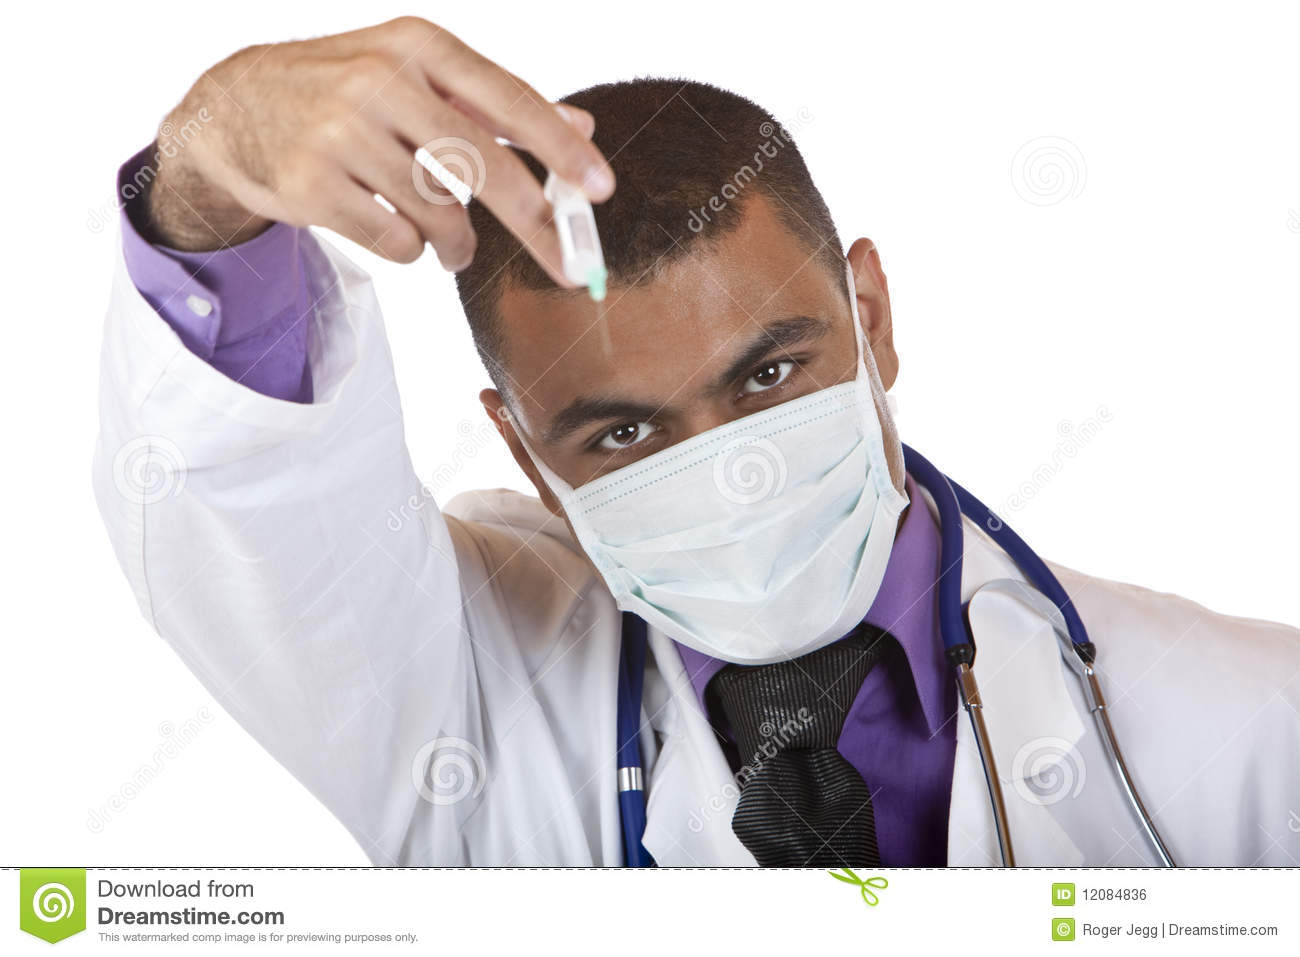mask: (563, 387, 897, 669)
